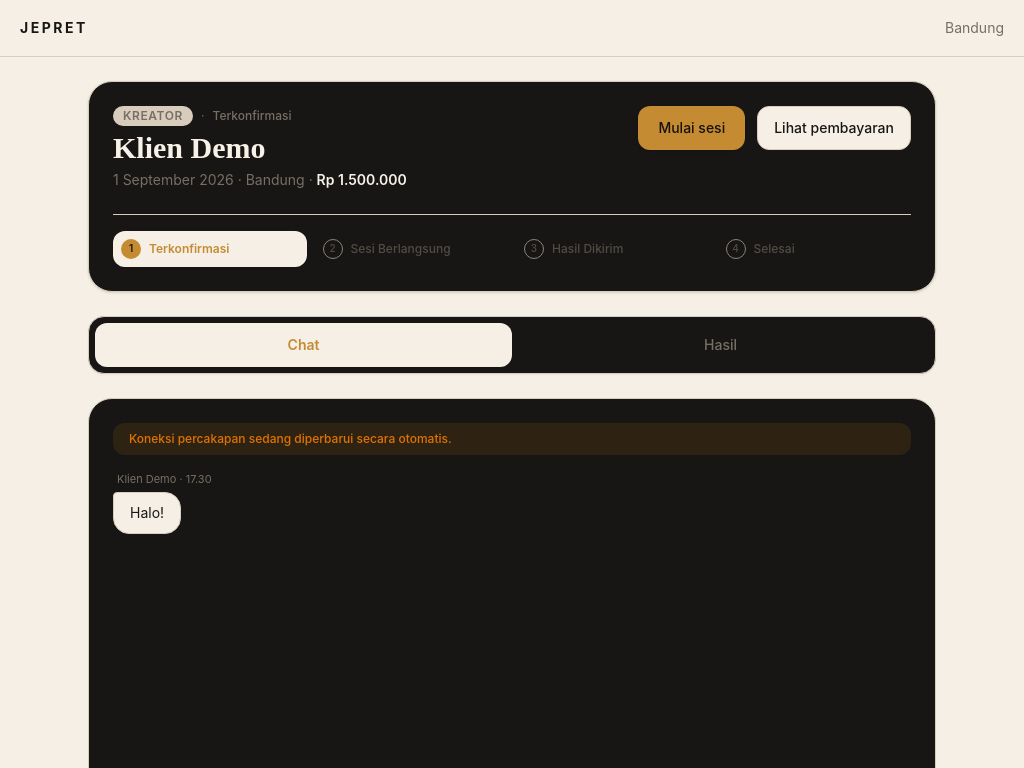
Test: WorkspacePage › renders workspace header with booking details and accessible tabs
Expected: the heading "Klien Demo" is shown, top-left (113, 131), bottom-right (266, 164)
Expected: the text "1 September 2026 · Bandung · Rp 1.500.000" is shown, top-left (113, 170), bottom-right (407, 190)
Click the tab "Hasil".
click(720, 345)  # box top-left (512, 323), bottom-right (929, 367)
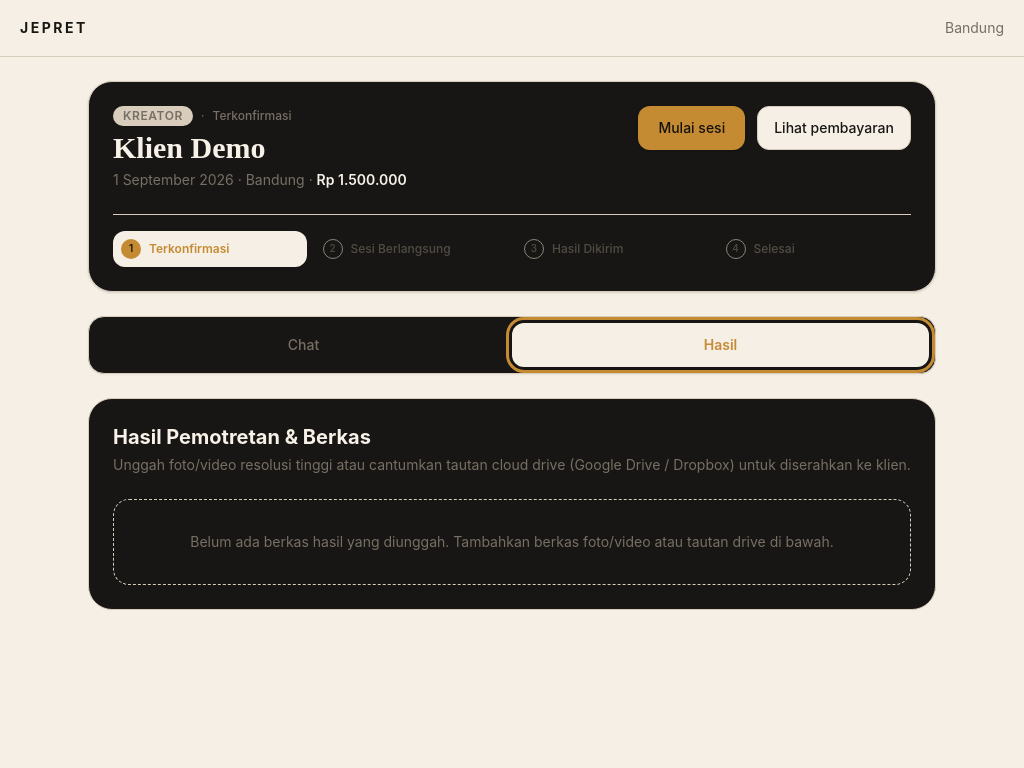
Expected: the panel "Hasil" is shown, top-left (88, 398), bottom-right (936, 610)
